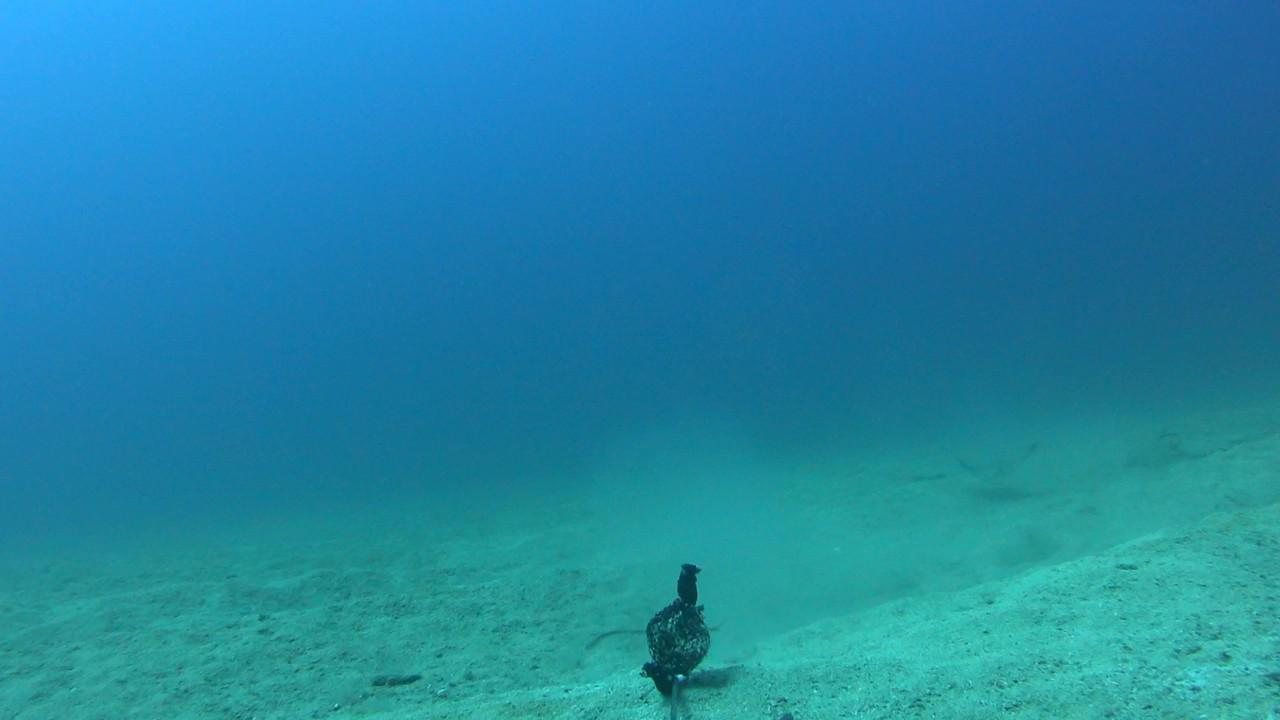myliobatis: (918, 443, 1042, 494)
